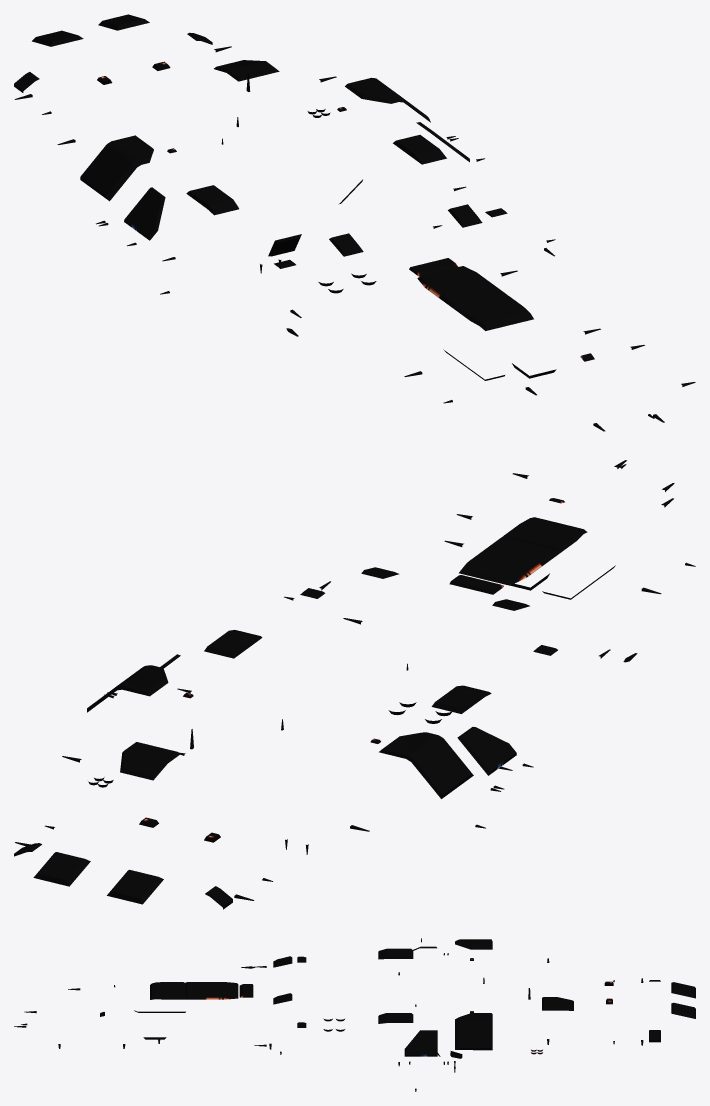
File: hgn_fs_expl_05.glb
3 views of the same model, one above another, from view 1: azimuth 30°, elevation 25°; view 2: azimuth 150°, elevation 25°; view 3: azimuth 270°, elevation 25° (orthographic). The views are drawn at different scales.
Visible parts, largest first — view 1: hgn_flagship_explorer_05_parts_LOD0, hgn_flagship_explorer_05_base_LOD0; view 2: hgn_flagship_explorer_05_parts_LOD0, hgn_flagship_explorer_05_base_LOD0; view 3: hgn_flagship_explorer_05_parts_LOD0, hgn_flagship_explorer_05_base_LOD0.
Boxes of the visible parts, x1,y1,x2,y2 form: hgn_flagship_explorer_05_parts_LOD0: (80,60,594,361); hgn_flagship_explorer_05_base_LOD0: (14,14,695,431); hgn_flagship_explorer_05_parts_LOD0: (87,498,587,798); hgn_flagship_explorer_05_base_LOD0: (14,460,695,909); hgn_flagship_explorer_05_parts_LOD0: (100,939,573,1056); hgn_flagship_explorer_05_base_LOD0: (14,938,695,1091).
Size of what is drawn, in the model's own units: 8.4 by 3.8 by 21.63.
Materials: 2 (2 with a texture image).
